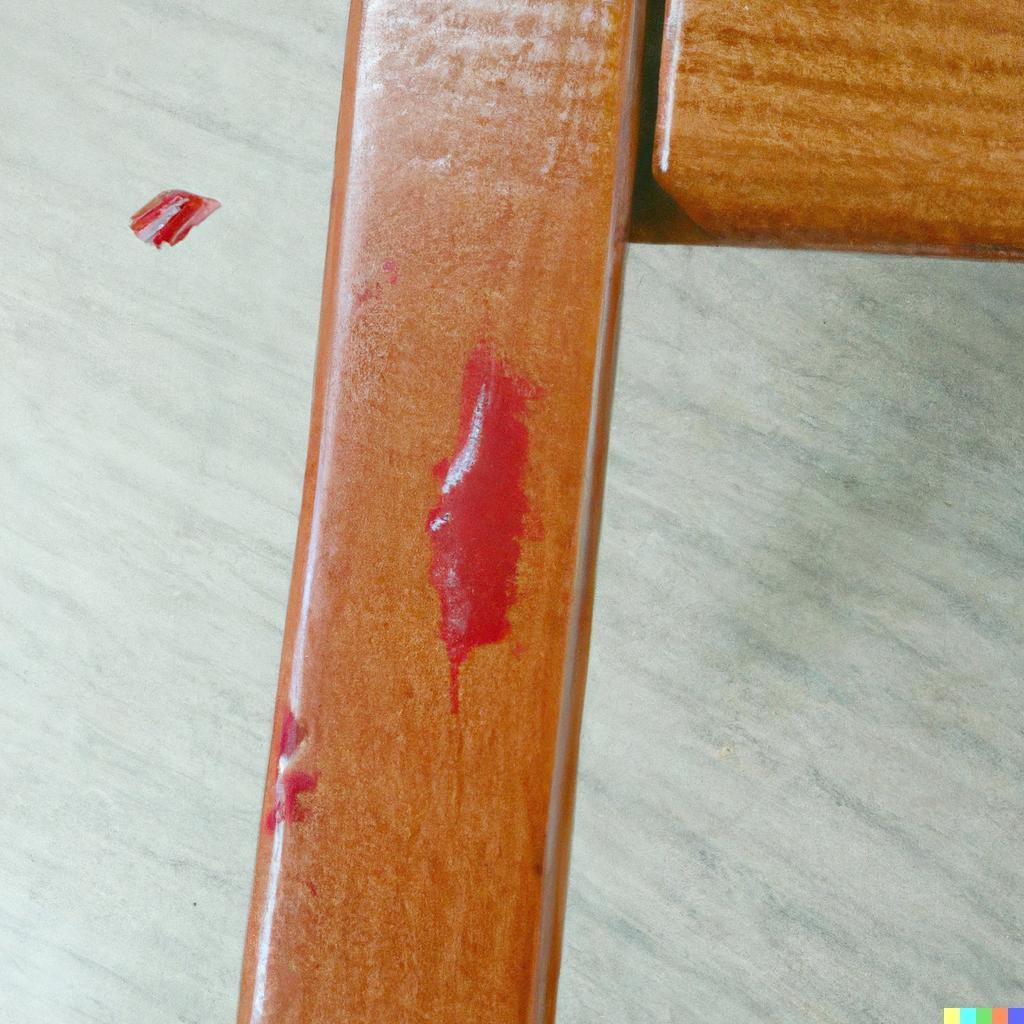Bloodstain-Detection: (436, 366, 528, 677)
